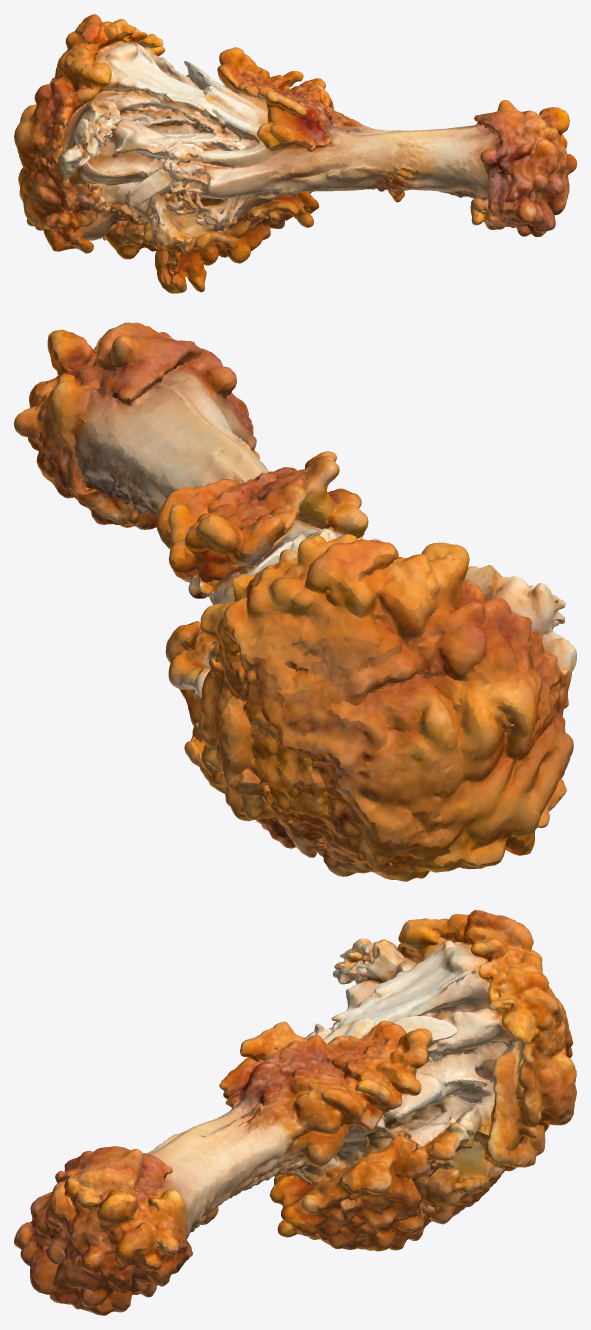
The picture shows the model from 3 angles, top to bottom: view 1: azimuth 30°, elevation 25°; view 2: azimuth 150°, elevation 25°; view 3: azimuth 270°, elevation 25°; orthographic projection. The views are drawn at different scales.
Visible parts, largest first — view 1: FoodRedoV2Alignment-0; view 2: FoodRedoV2Alignment-0; view 3: FoodRedoV2Alignment-0.
Boxes of the visible parts, left/top/right/bottom form: FoodRedoV2Alignment-0: left=14, top=14, right=576, bottom=293; FoodRedoV2Alignment-0: left=14, top=322, right=576, bottom=881; FoodRedoV2Alignment-0: left=14, top=910, right=576, bottom=1315.
Size of the model in its own units: 0.1311 by 0.0688 by 0.1155.
1 material, 1 textured.
